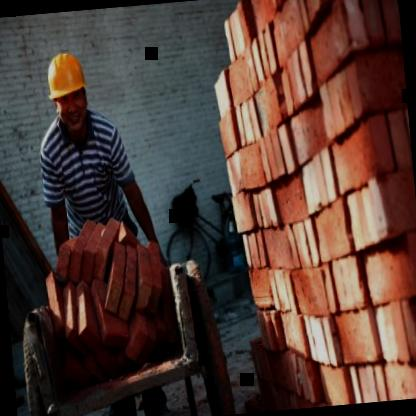helmet: (42, 41, 94, 139)
